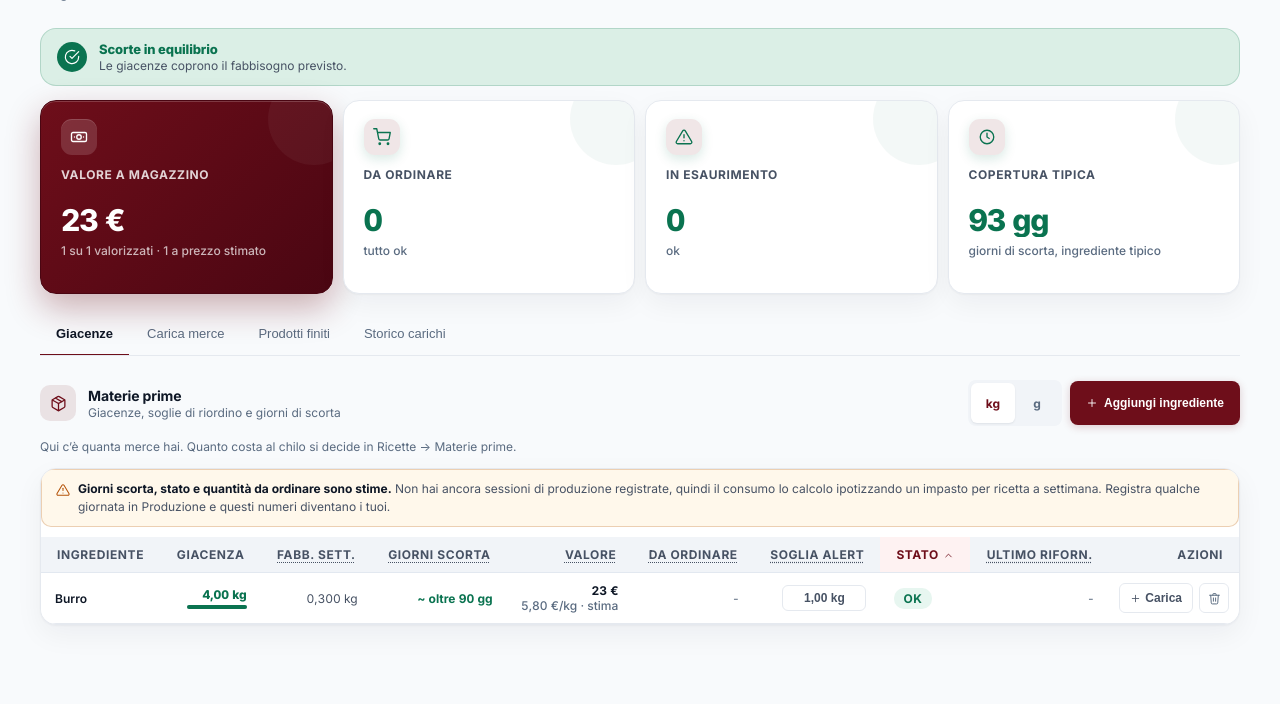
it: carica merce — il tablet sul bancone › il campo quantita accetta la virgola della tastiera italiana
Click the tab "Carica merce".
click(186, 334)  # box top-left (131, 312), bottom-right (240, 356)
(page scrolled)
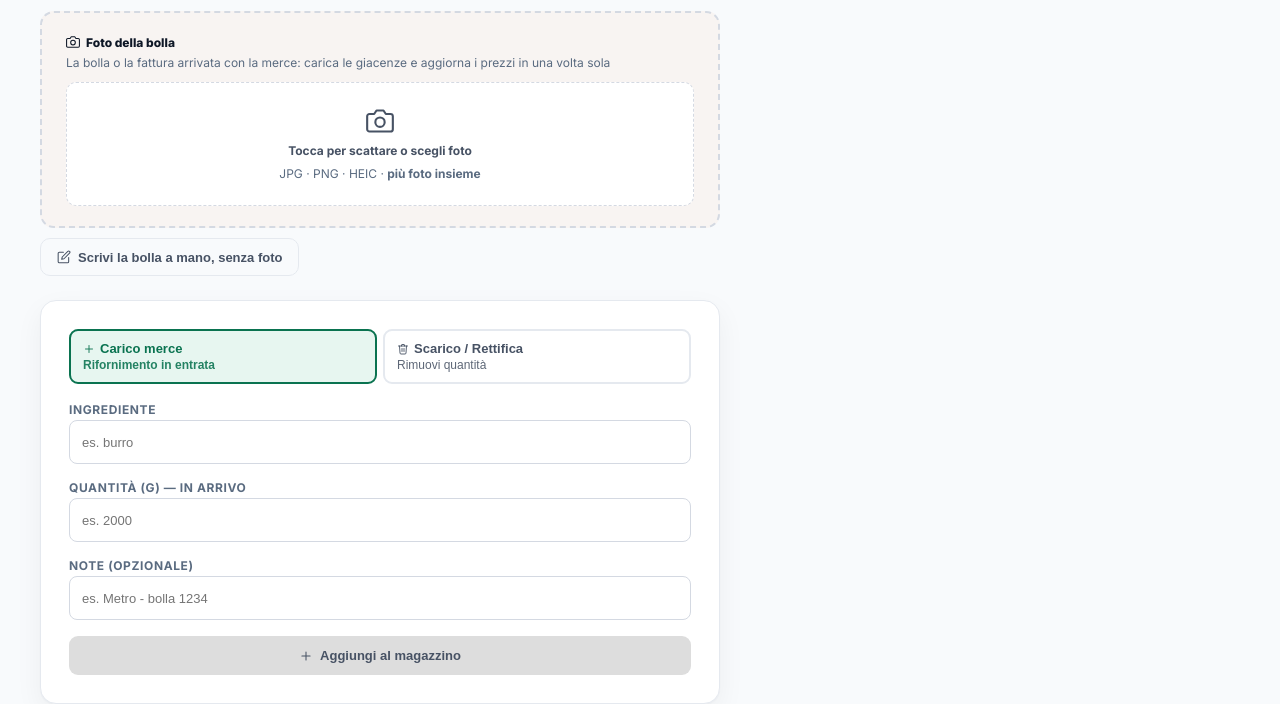
Now the field with id "mag-qty-input" is shown, box top-left (69, 498), bottom-right (691, 542)
Type "burro" into the field with id "mag-ing-input".
click(380, 442); type("burro")  # box top-left (69, 420), bottom-right (691, 464)
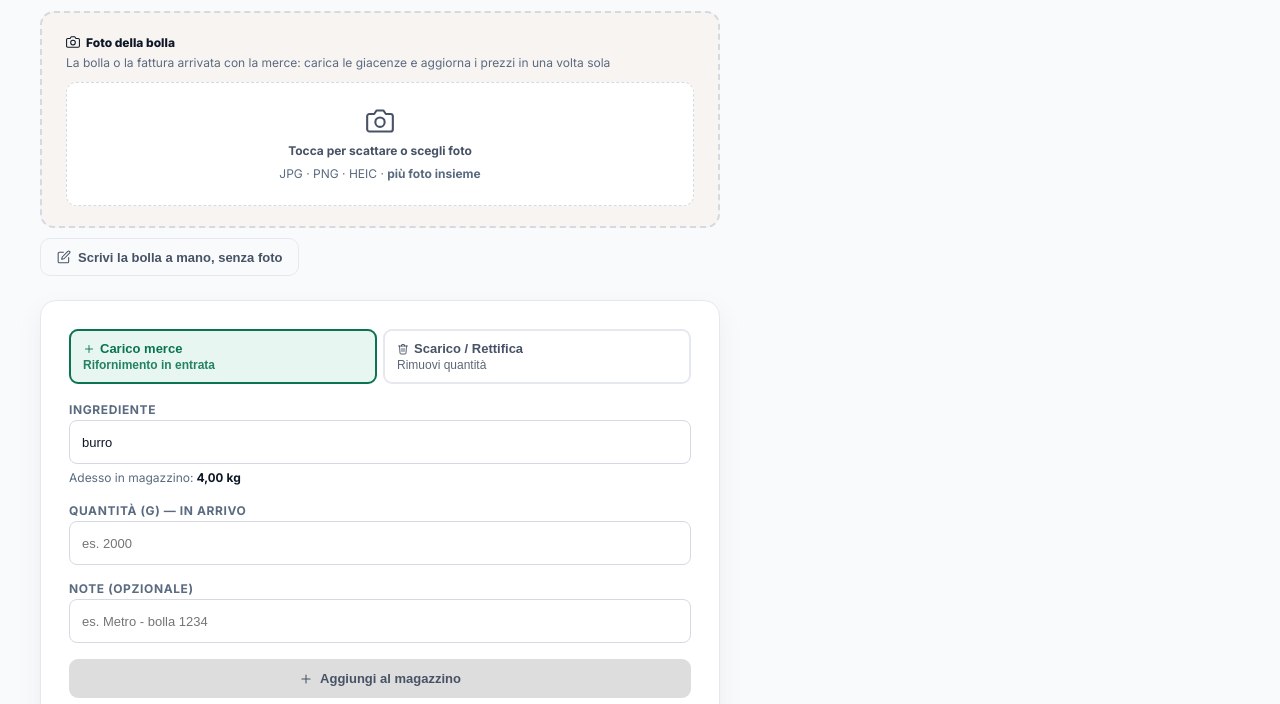
Type "1,5" into the field with id "mag-qty-input".
click(380, 543); type("1,5")  # box top-left (69, 521), bottom-right (691, 565)
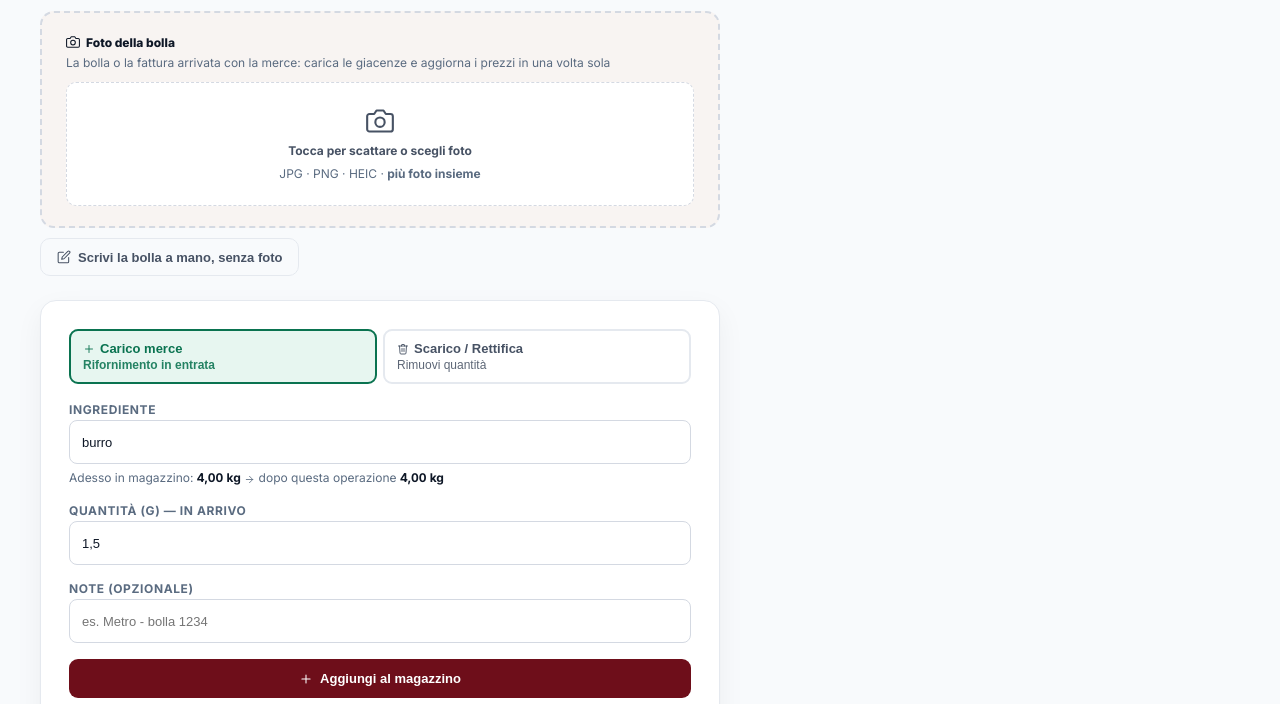
Now the button "Aggiungi al magazzino" is enabled, box top-left (69, 659), bottom-right (691, 698)
